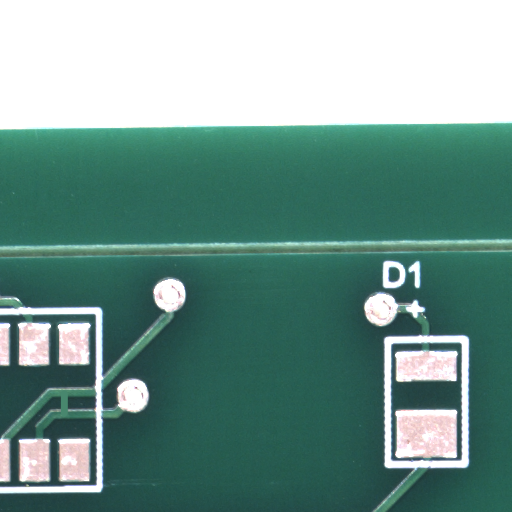Short: (65, 403, 77, 423)
